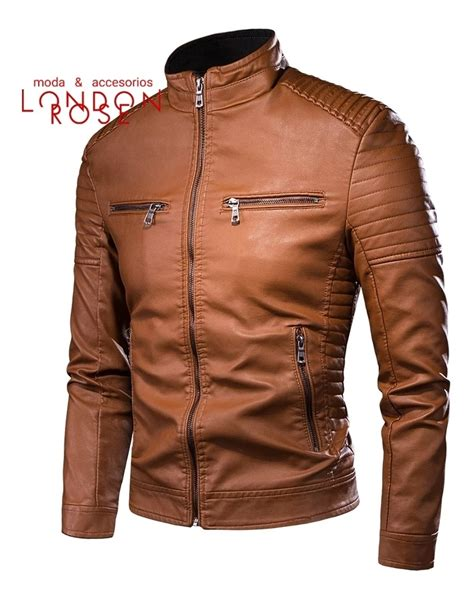cuero: (63, 29, 452, 571)
